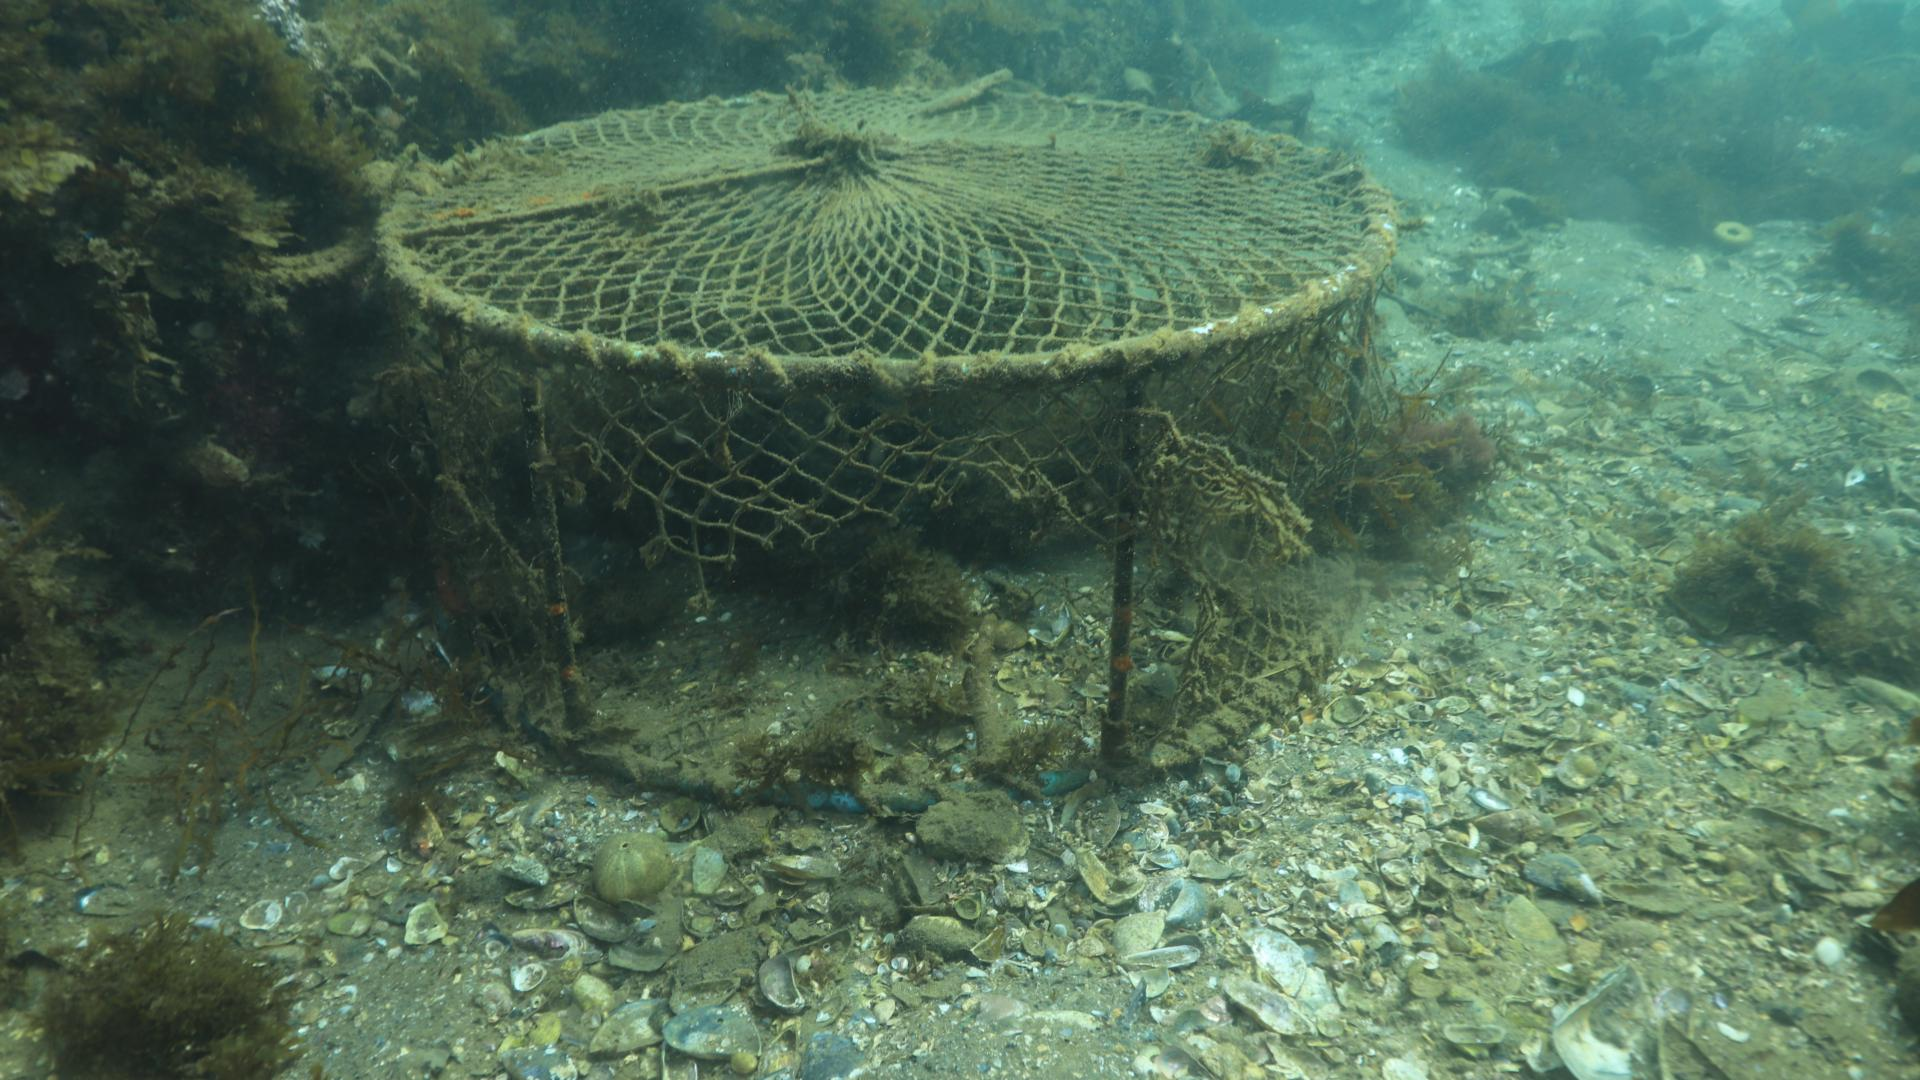circular fish trap: (371, 82, 1396, 814)
